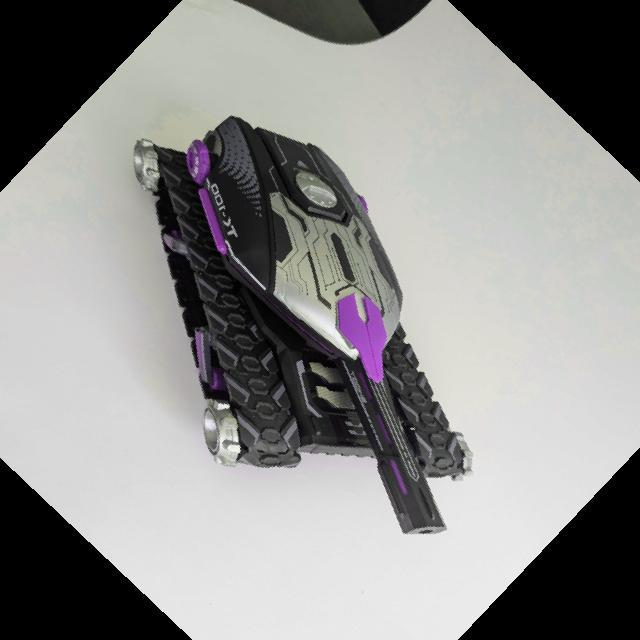barrel: (336, 358, 448, 536)
